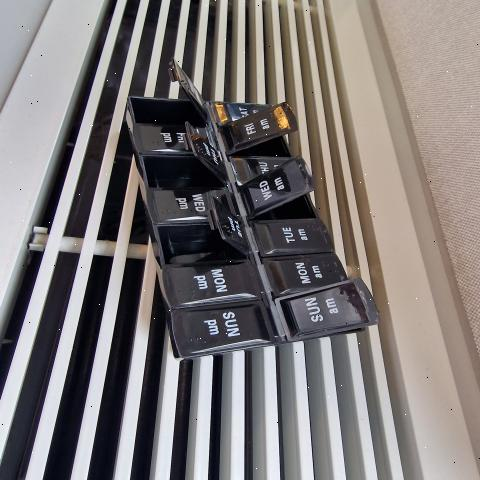Open: (161, 200, 252, 263), (130, 65, 210, 129), (138, 156, 229, 188), (232, 119, 292, 157), (254, 185, 319, 218), (309, 320, 370, 334)
